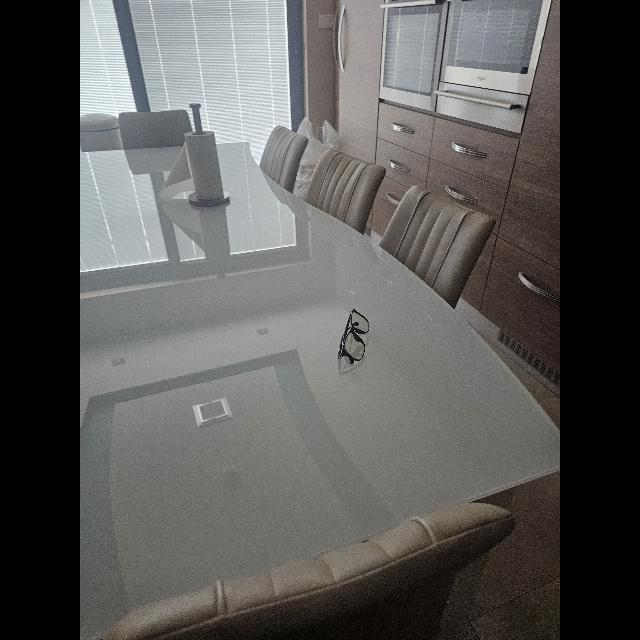glasses: (338, 309, 369, 365)
